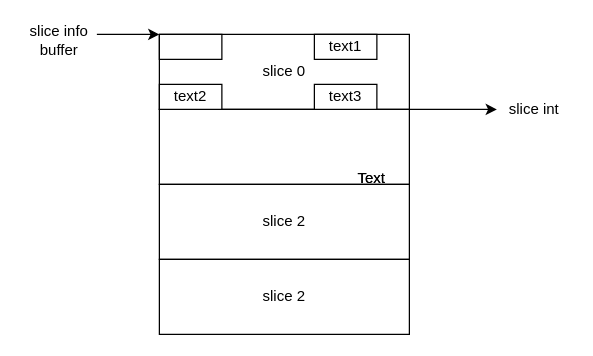
The diagram is 593 pixels wide and 356 high, and some of its shapes have lost their labels. The shapes that lost their labels are listed below. From the top down, each one's box as (x1, y1, x2, y2) in pixels, then its label:
(158, 33, 222, 59): text0
(158, 108, 409, 184): slice 1
